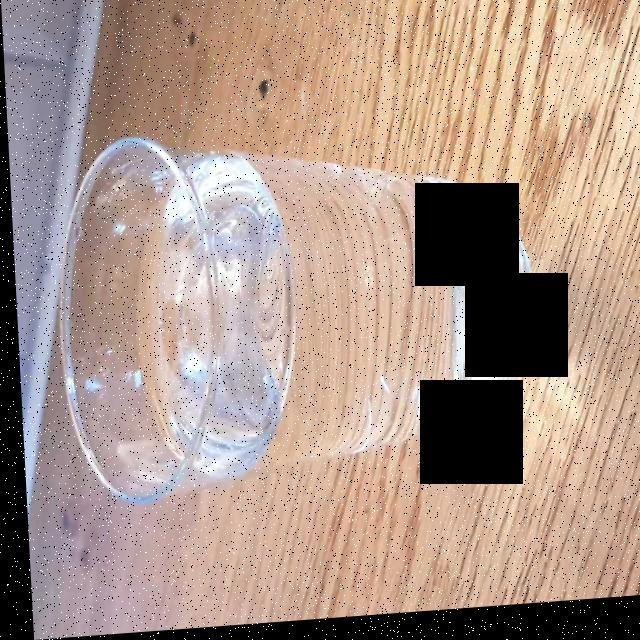water: (132, 153, 536, 489)
